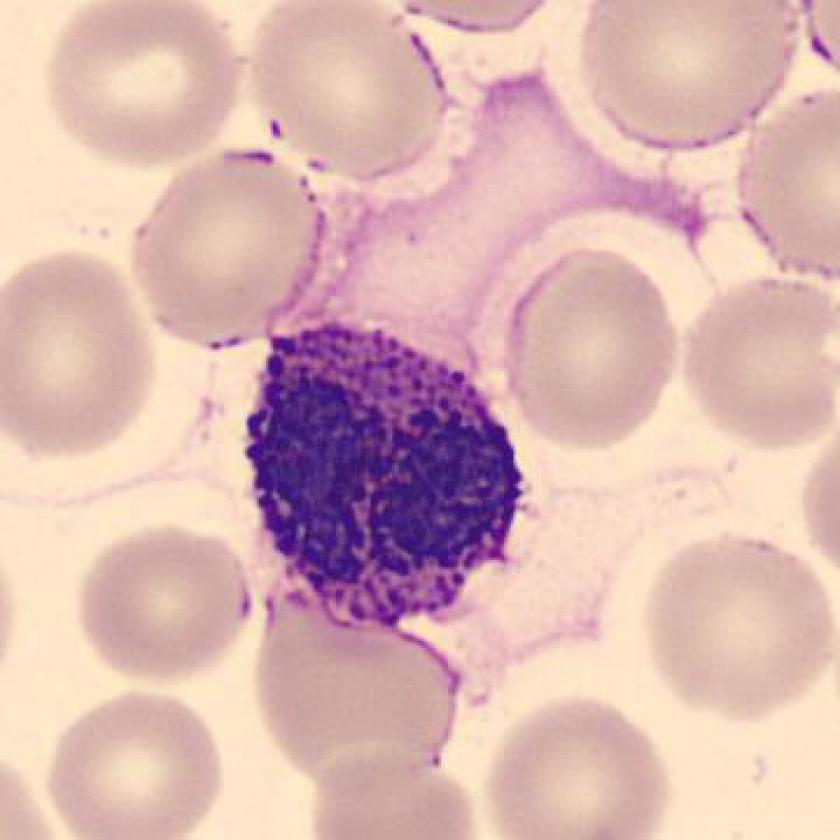basophil: (241, 318, 533, 630)
